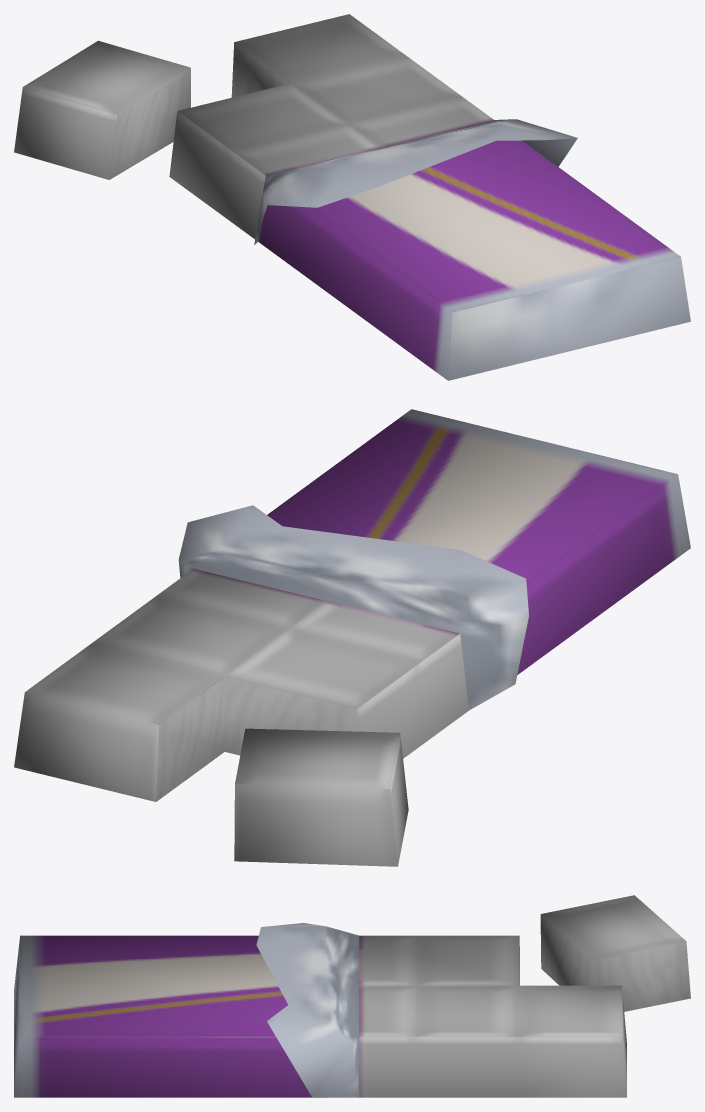
File: WhiteChocolate.fbx
3 renders of one model, top to bottom at view 1: azimuth 30°, elevation 25°; view 2: azimuth 150°, elevation 25°; view 3: azimuth 270°, elevation 25°, orthographic. The views are drawn at different scales.
Parts seen in each view (by area): view 1: Chocolate001; view 2: Chocolate001; view 3: Chocolate001.
Boxes of the visible parts, x1,y1,x2,y2 form: Chocolate001: (14,14,690,380); Chocolate001: (14,409,690,866); Chocolate001: (14,895,690,1097).
Size of the model in its own units: 26.75 by 5.61 by 46.44.
